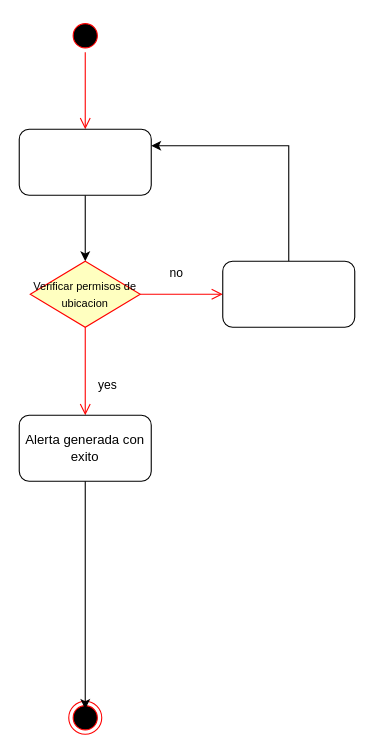
The diagram is 374 pixels wide and 754 high, and some of its shapes have lost their labels. The centre of each missing label's shape, as x and y in pixels:
"Generar alerta" belongs at [84,161].
"Solicita permisos de ubicacion" belongs at [288,293].
